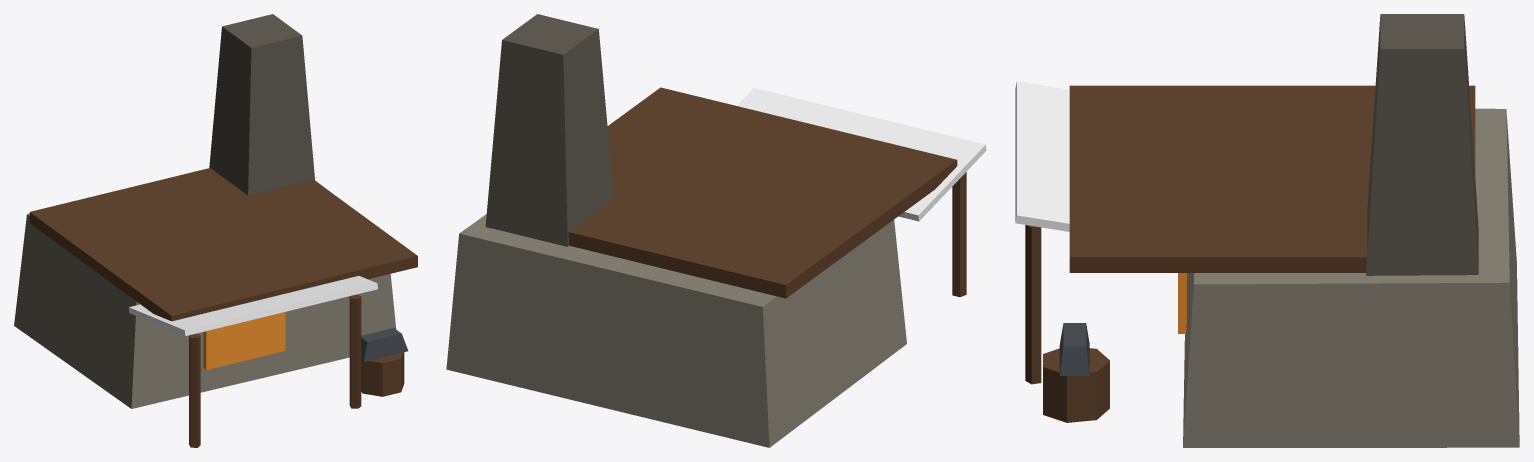
Rendered from forge.glb.
3 views of the same model, side by side, from view 1: azimuth 30°, elevation 25°; view 2: azimuth 150°, elevation 25°; view 3: azimuth 270°, elevation 25° (orthographic). The views are drawn at different scales.
Visible parts, largest first — view 1: part.003, part, part.001, part.006, part.002, part.007, part.005, part.004, part.008; view 2: part, part.003, part.001, part.006, part.004; view 3: part, part.003, part.001, part.006, part.007, part.005, part.008, part.002.
Part boxes in pixels (x1,y1,x2,y2): part.003: [29, 168, 417, 321]; part: [14, 180, 396, 408]; part.001: [209, 14, 314, 195]; part.006: [129, 276, 377, 336]; part.002: [203, 312, 285, 369]; part.007: [361, 352, 404, 396]; part.005: [349, 294, 361, 408]; part.004: [189, 333, 200, 447]; part.008: [361, 328, 408, 361]; part: [446, 214, 906, 447]; part.003: [568, 87, 957, 298]; part.001: [485, 14, 613, 246]; part.006: [737, 88, 986, 221]; part.004: [952, 172, 966, 297]; part: [1183, 108, 1519, 447]; part.003: [1069, 85, 1475, 272]; part.001: [1366, 14, 1478, 275]; part.006: [1015, 81, 1069, 231]; part.007: [1043, 348, 1109, 422]; part.005: [1025, 225, 1041, 384]; part.008: [1059, 323, 1089, 375]; part.002: [1178, 273, 1186, 333].
Size of the model in its own units: 2.54 by 2.38 by 2.86.
